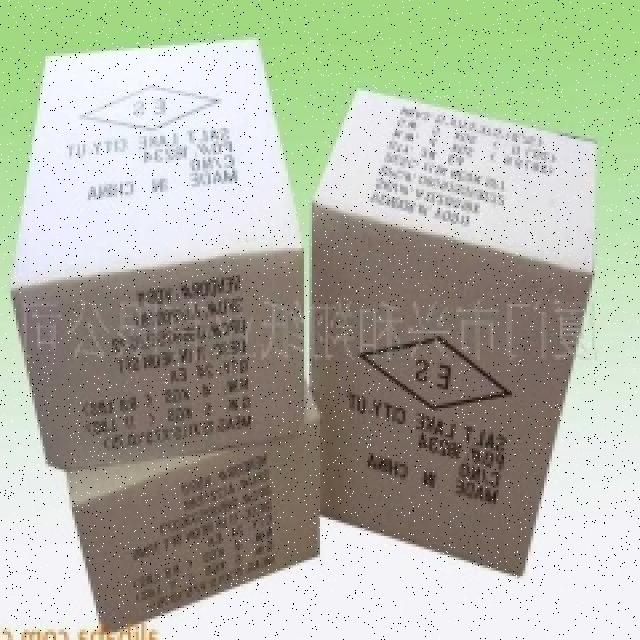box: (307, 131, 612, 558), (21, 24, 273, 462), (62, 378, 318, 640)
